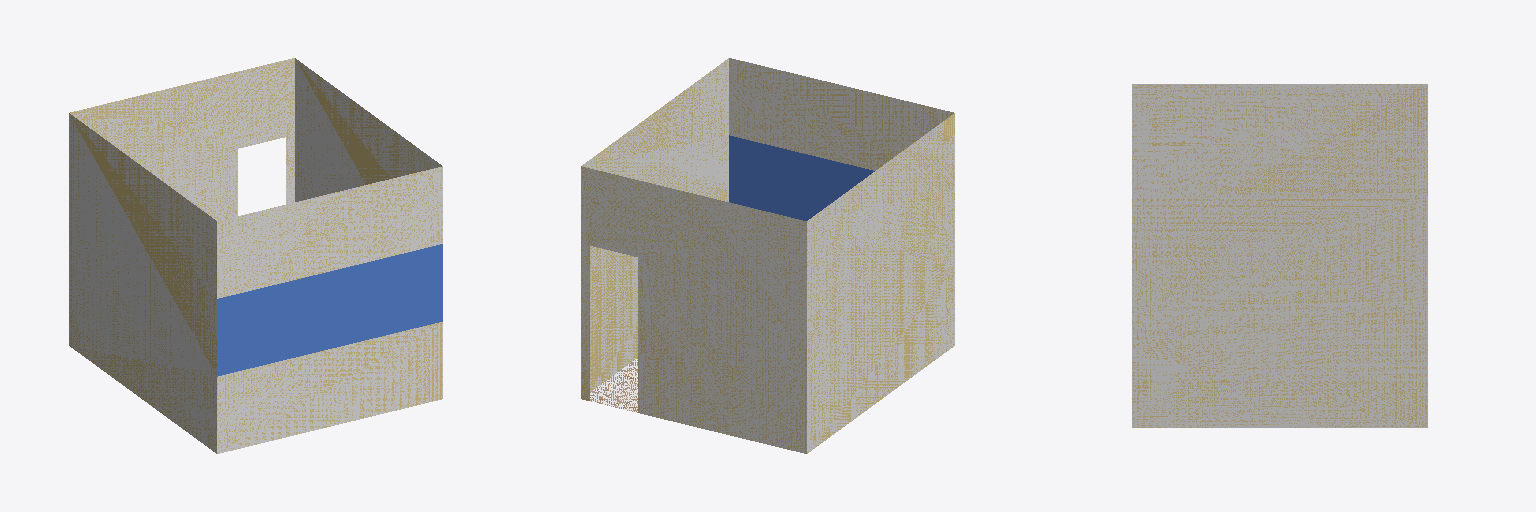
The picture shows the model from 3 angles: view 1: azimuth 30°, elevation 25°; view 2: azimuth 150°, elevation 25°; view 3: azimuth 270°, elevation 25°; orthographic projection.
Parts seen in each view (by area): view 1: Mesh1 LAB008 Model; view 2: Mesh1 LAB008 Model; view 3: Mesh1 LAB008 Model.
Part boxes in pixels (left/top/right/bottom): Mesh1 LAB008 Model: left=69, top=58, right=442, bottom=453; Mesh1 LAB008 Model: left=581, top=58, right=954, bottom=453; Mesh1 LAB008 Model: left=1132, top=84, right=1427, bottom=427.
Bounding box in the file's own units: 3.04 × 3 × 3.46.
4 materials, 1 textured.